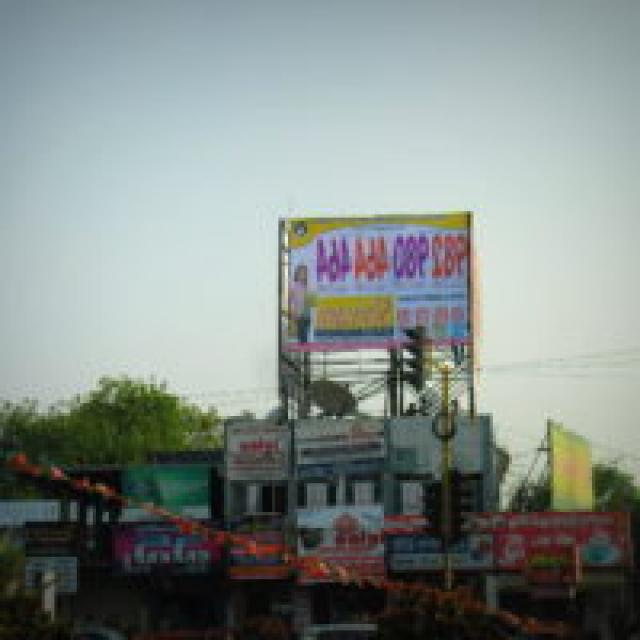Werbetafel frei: (279, 208, 470, 356)
